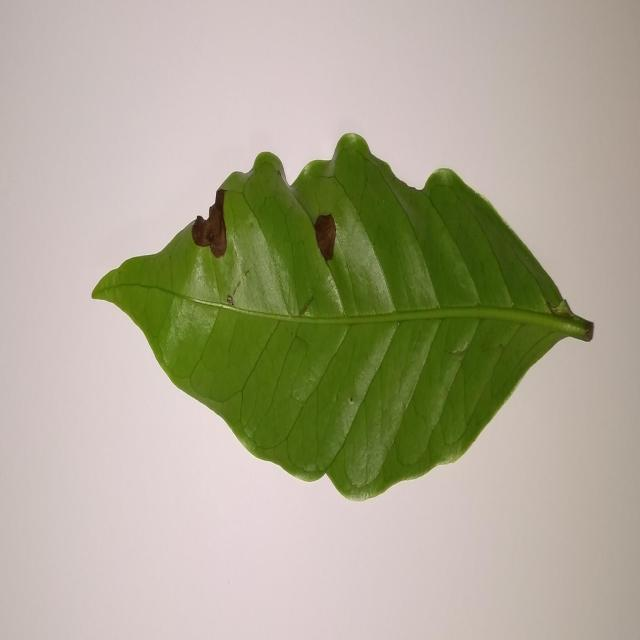phoma: (192, 181, 227, 258), (314, 213, 338, 279)
